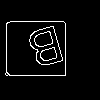B: (25, 25, 69, 78)
